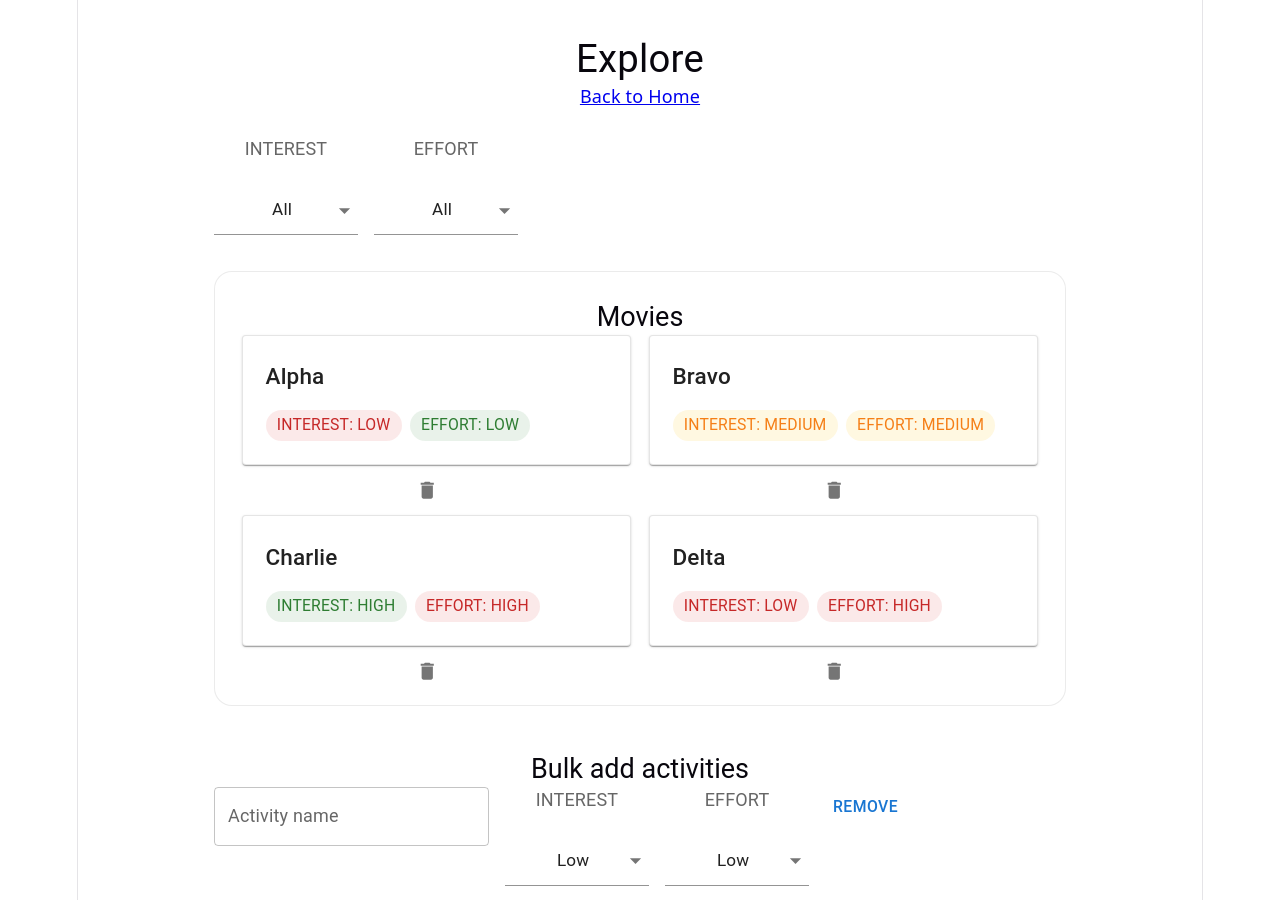
Test: ExplorePage › filters by at-least interest
Expected: the heading "Alpha" is shown, [266,363,324,389]
Press the mouse on the 1st dropdown labelled "All" at (282, 209), box [272,199,292,219]
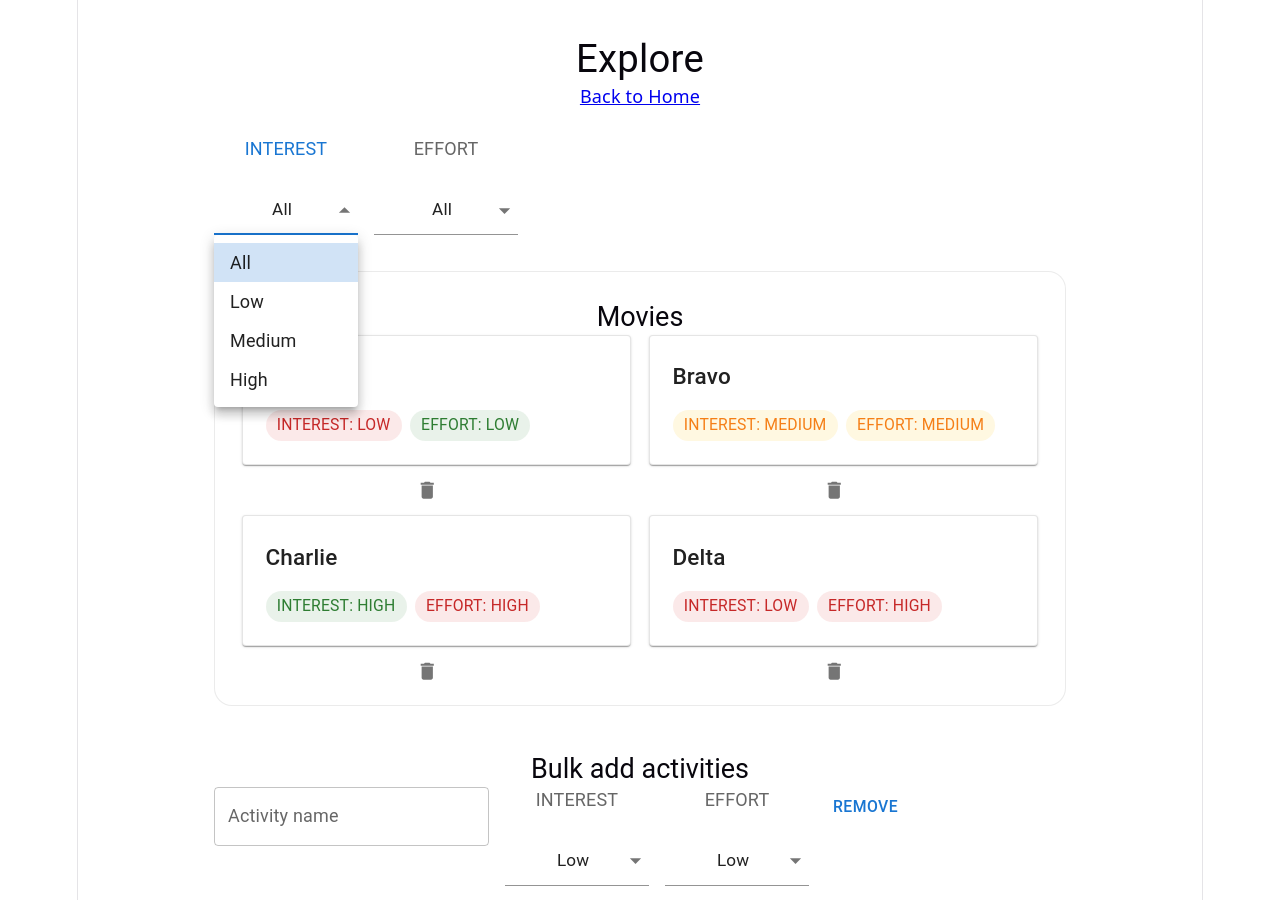
Click the option "Medium" at (263, 340), box [230,330,296,351]
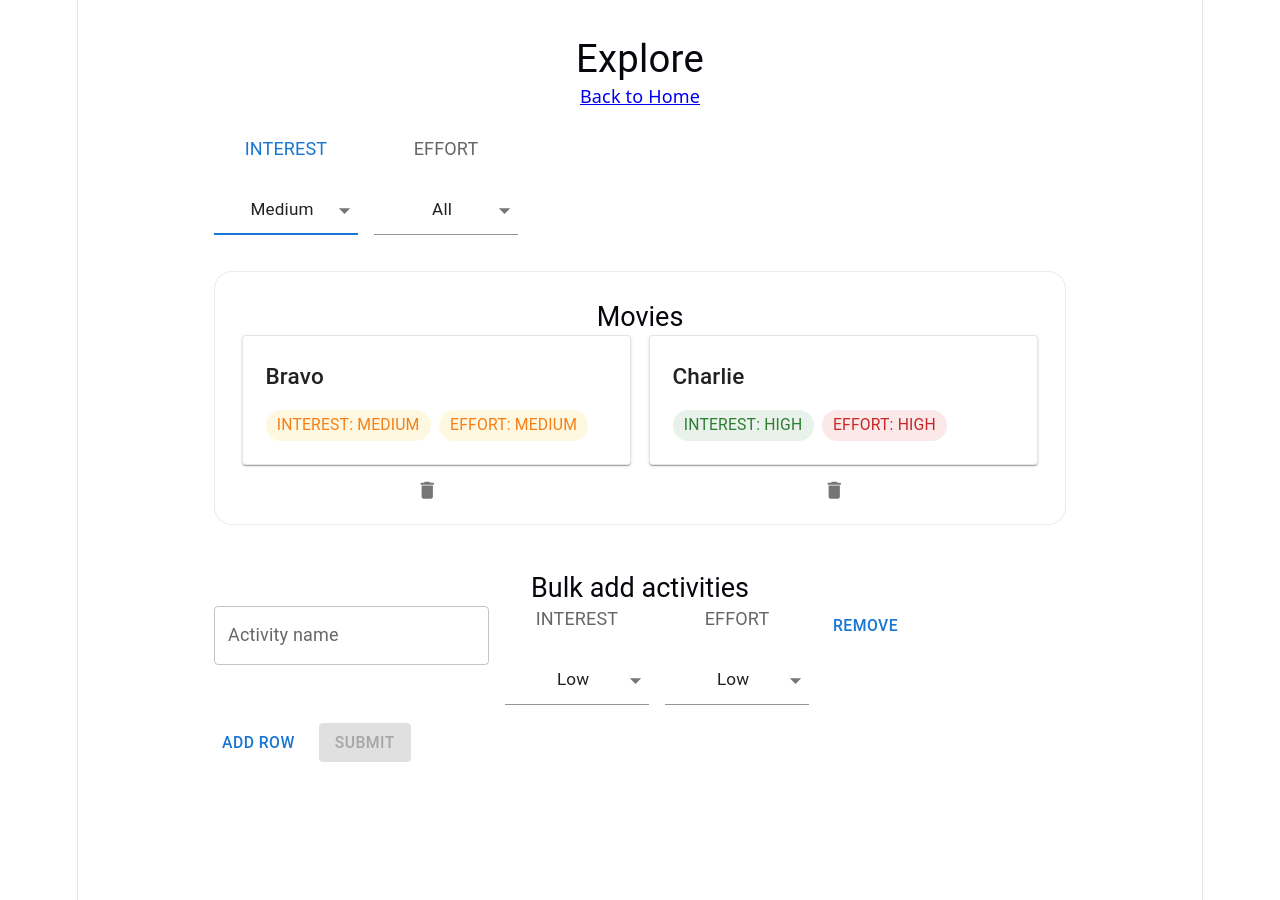
Expected: the heading "Bravo" is shown, [266,363,324,389]
Now the button "Alpha" is gone
Now the button "Delta" is gone
